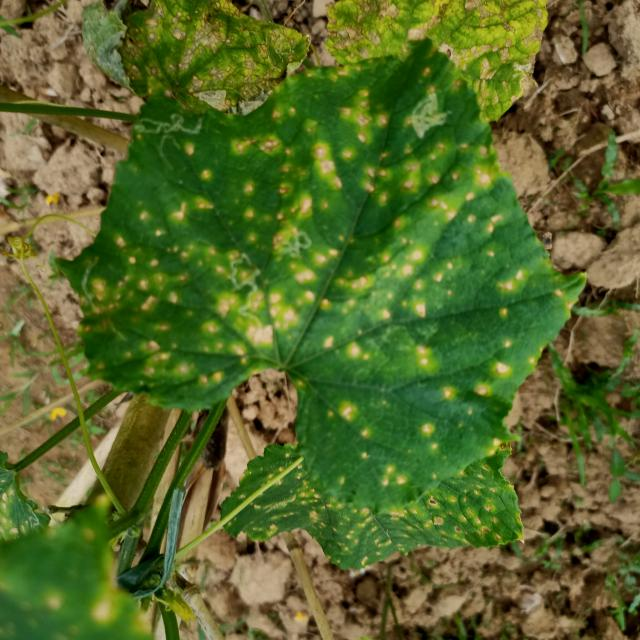disease_cucumber: (76, 74, 550, 386), (336, 398, 371, 441), (439, 382, 492, 404), (421, 416, 441, 456), (380, 461, 407, 490)
